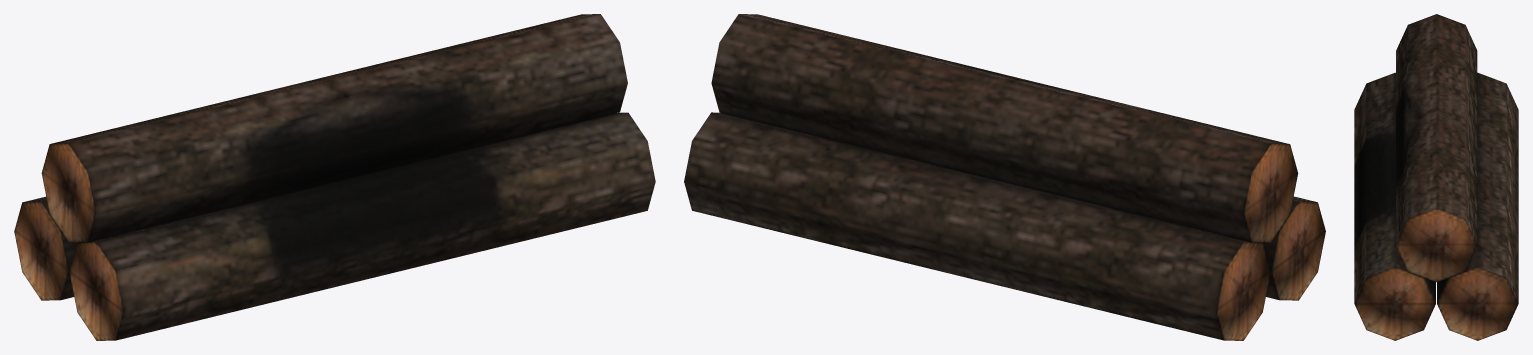
File: Logs_atlas.fbx
3 renders of one model, left to right at view 1: azimuth 30°, elevation 25°; view 2: azimuth 150°, elevation 25°; view 3: azimuth 270°, elevation 25°, orthographic. The views are drawn at different scales.
Visible parts, largest first — view 1: polySurface1; view 2: polySurface1; view 3: polySurface1.
Part boxes in pixels (x1=…): polySurface1: x1=14, y1=14, x2=655, y2=340; polySurface1: x1=684, y1=14, x2=1325, y2=340; polySurface1: x1=1354, y1=14, x2=1518, y2=340.
Bounding box in the file's own units: 5.03 × 1.6 × 1.79.
